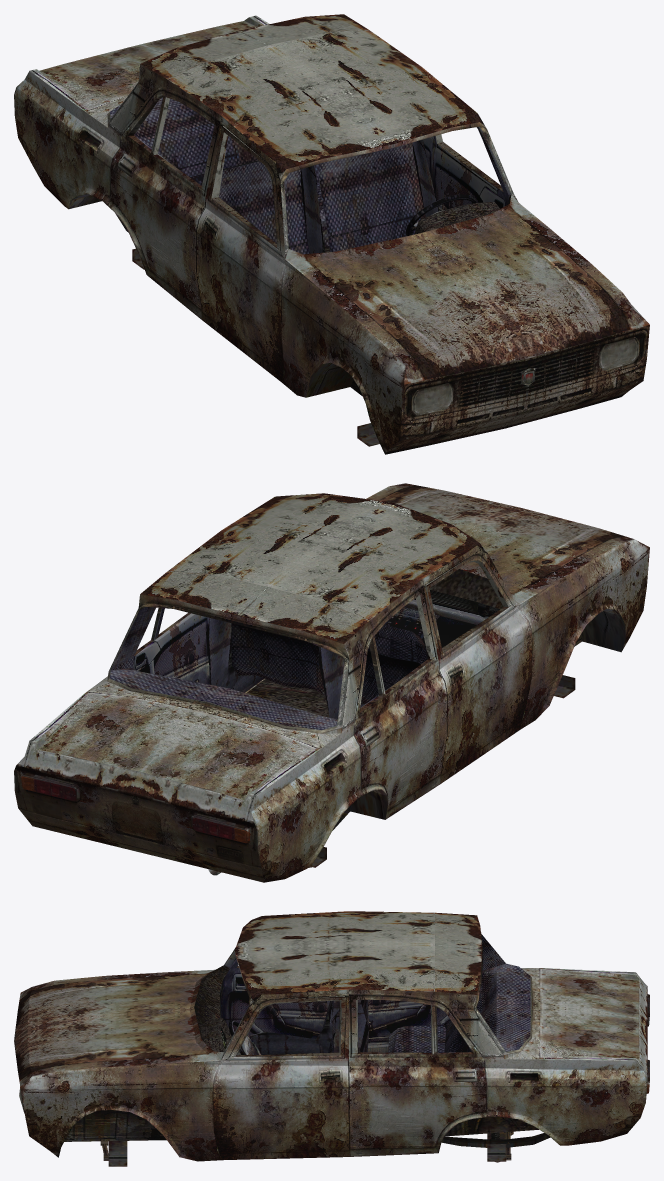
File: rusty_car.glb
The picture shows the model from 3 angles, top to bottom: view 1: azimuth 30°, elevation 25°; view 2: azimuth 150°, elevation 25°; view 3: azimuth 270°, elevation 25°; orthographic projection. The views are drawn at different scales.
Parts seen in each view (by area): view 1: Moskvitch; view 2: Moskvitch; view 3: Moskvitch.
Boxes of the visible parts, box(x1,y1,x2,y2) form: Moskvitch: box(14, 14, 649, 454); Moskvitch: box(14, 483, 649, 882); Moskvitch: box(14, 911, 649, 1166).
Size of the model in its own units: 1.69 by 1.53 by 4.52.
2 materials, 2 textured.
